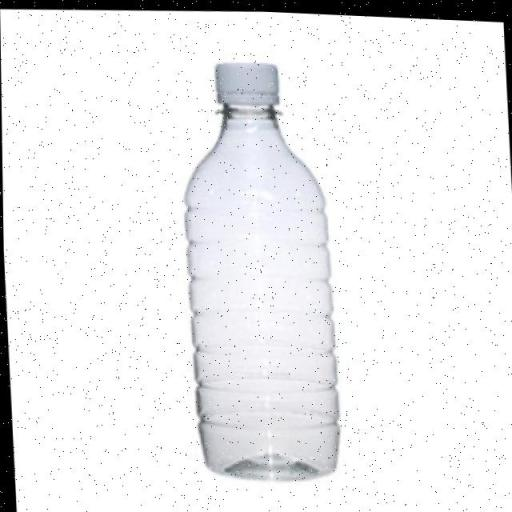plastic: (173, 50, 344, 488)
